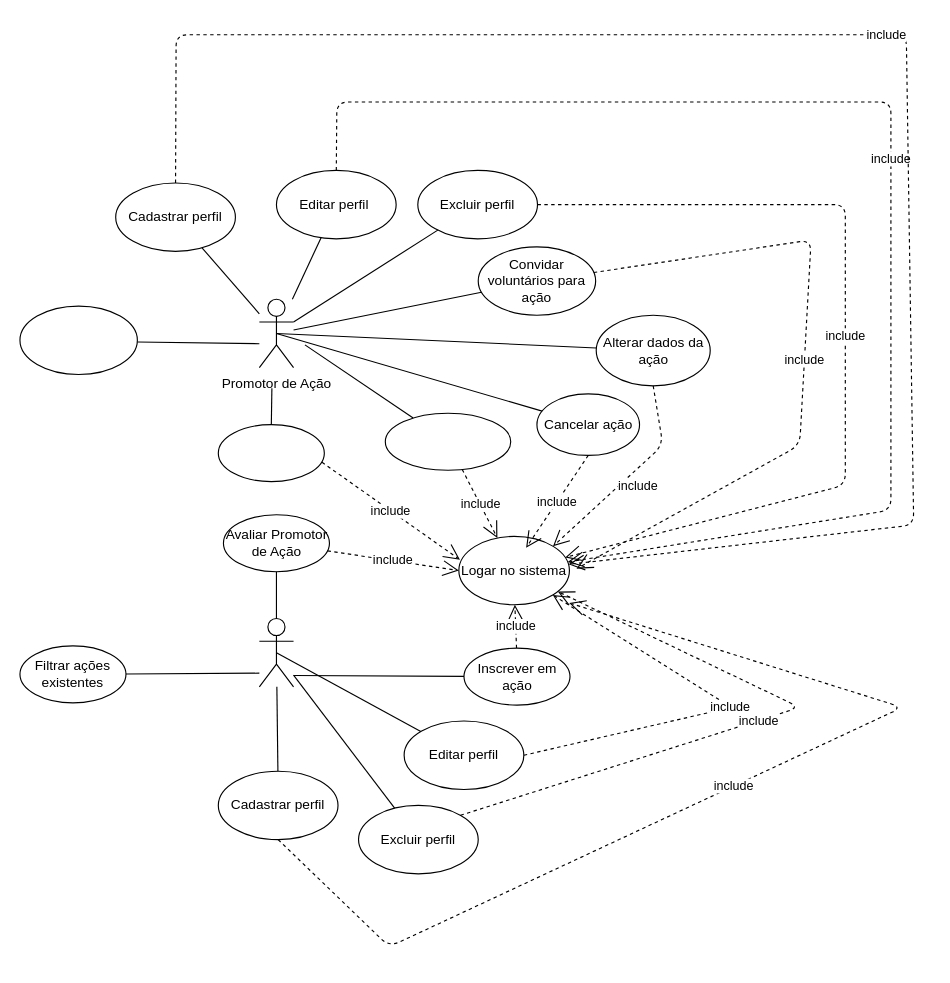
The diagram is 950 pixels wide and 983 high, and some of its shapes have lost their labels. Here are the shapes that lost their labels. From the top down, the centre of each, then its label:
the point at 78,339: Filtrar voluntários
the point at 270,453: Avaliar Voluntário
the point at 447,441: Cadastrar ação
the point at 276,652: Voluntário
